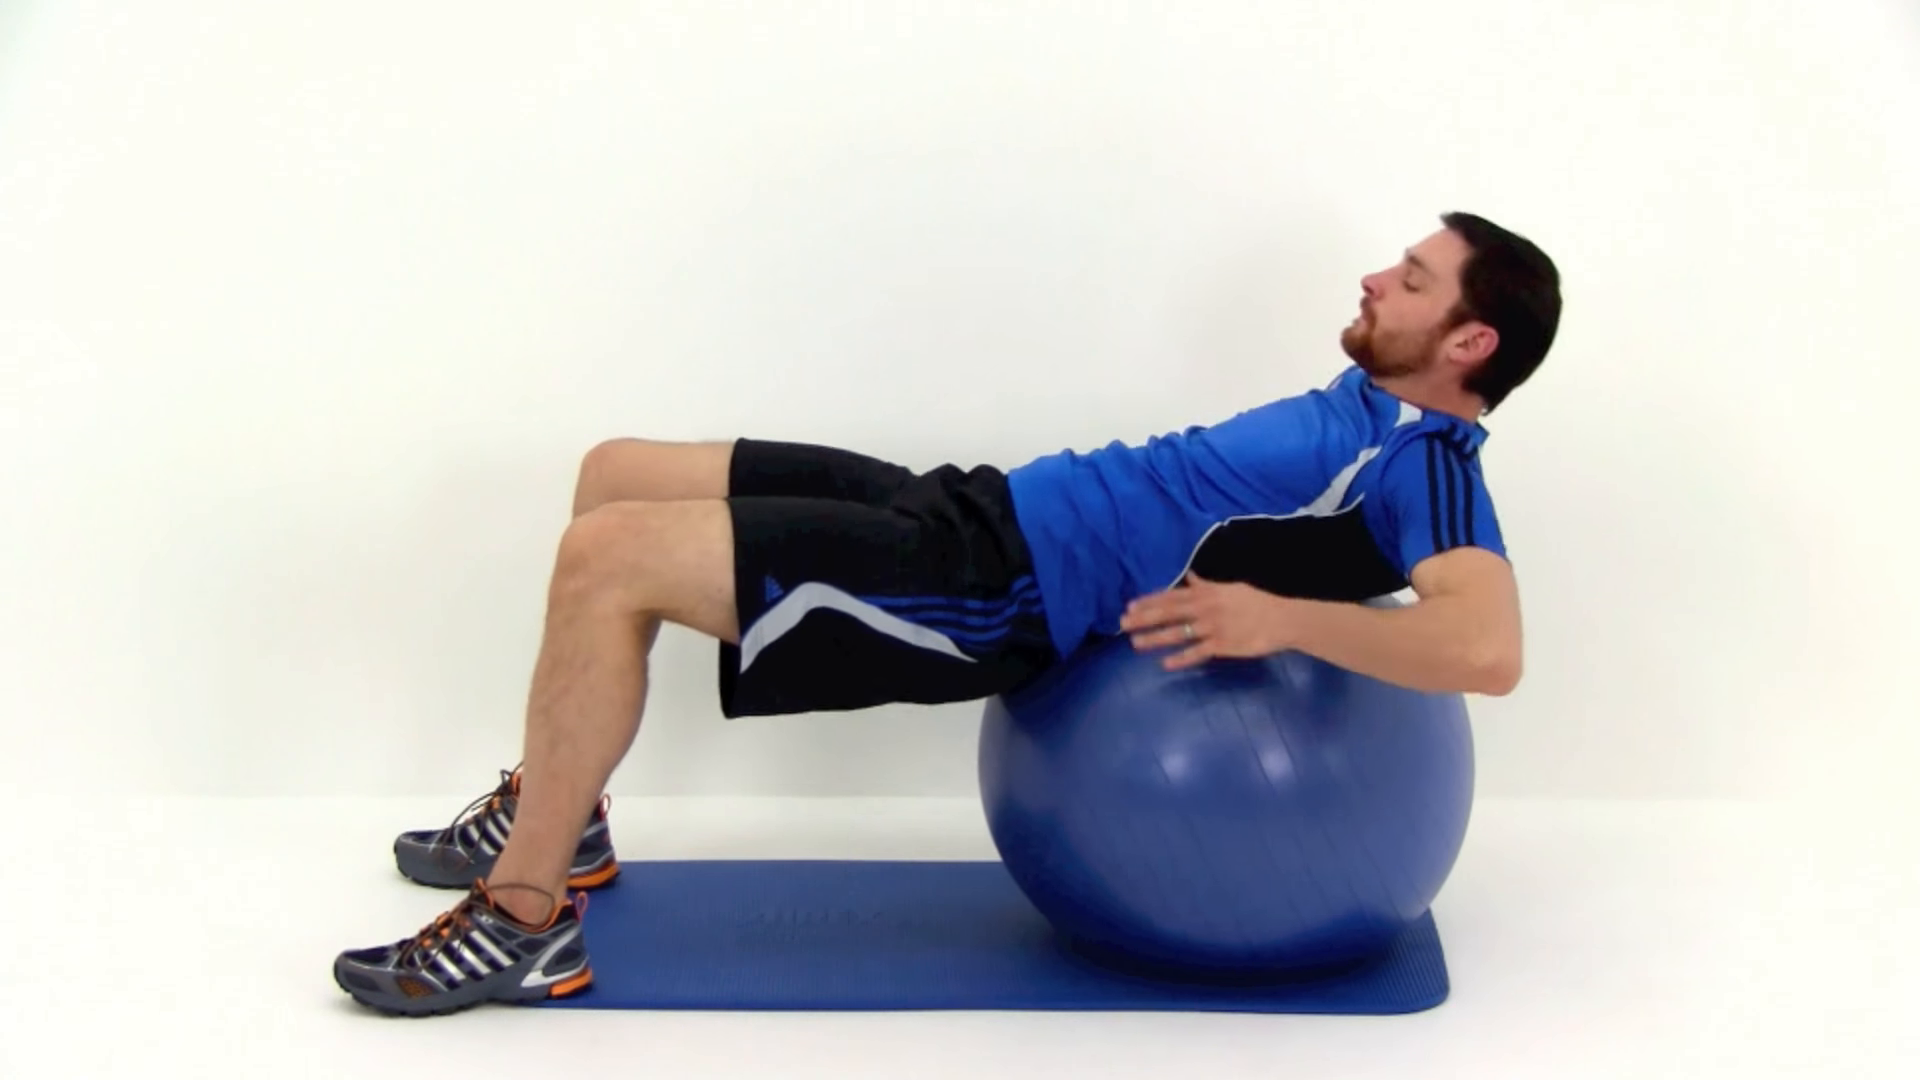yogaball: (971, 588, 1485, 985)
